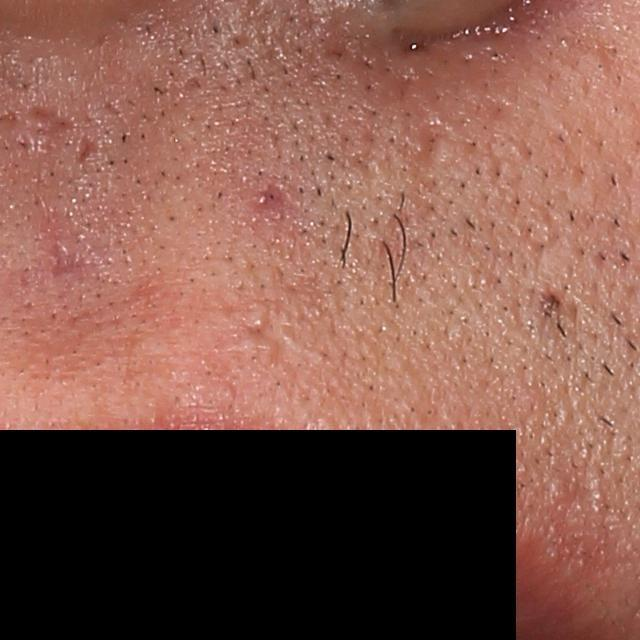atrophic_scar: (373, 124, 464, 281), (250, 303, 335, 378), (37, 242, 112, 295), (248, 170, 304, 219), (28, 107, 74, 165), (218, 30, 286, 65), (151, 73, 216, 109), (75, 129, 99, 168)
nevus: (540, 288, 567, 315)
